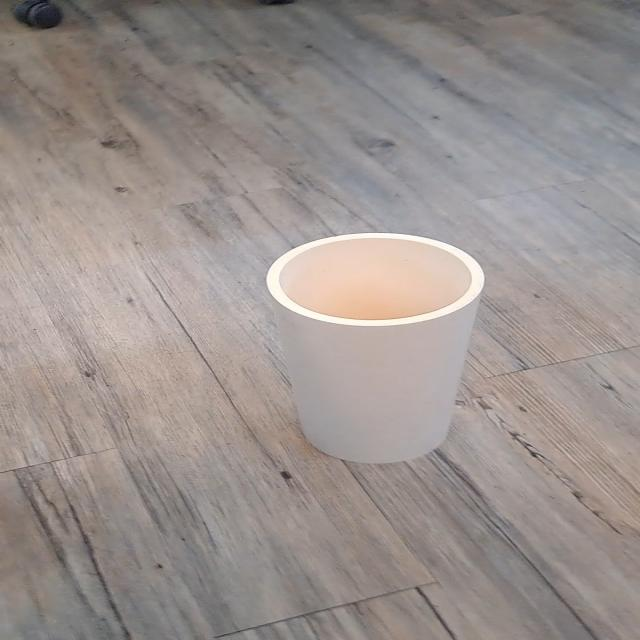CORAL: (238, 225, 516, 477)
